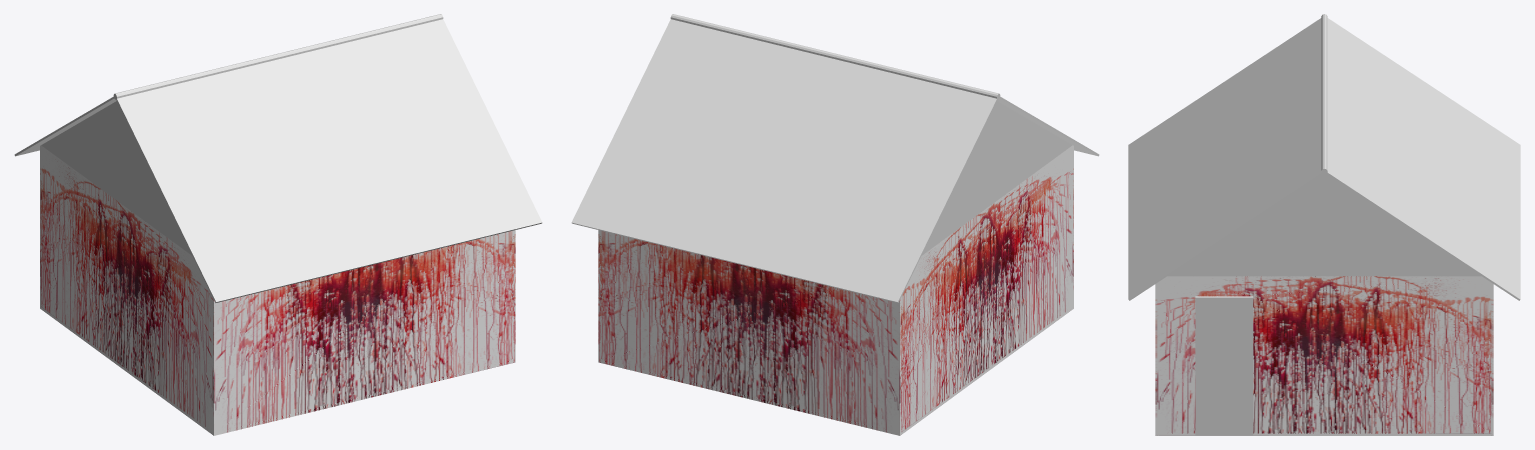
File: NadimRoom.fbx
3 views of the same model, side by side, from view 1: azimuth 30°, elevation 25°; view 2: azimuth 150°, elevation 25°; view 3: azimuth 270°, elevation 25° (orthographic). The views are drawn at different scales.
Parts seen in each view (by area): view 1: pCylinder1, Nadims_Box1, Nadims_Box; view 2: pCylinder1, Nadims_Box1, Nadims_Box; view 3: pCylinder1, Nadims_Box1, Nadims_Box, door.
Part boxes in pixels (x1=…): pCylinder1: x1=14, y1=14, x2=542, y2=302; Nadims_Box1: x1=40, y1=145, x2=515, y2=435; Nadims_Box: x1=41, y1=101, x2=191, y2=255; pCylinder1: x1=571, y1=14, x2=1099, y2=302; Nadims_Box1: x1=598, y1=145, x2=1073, y2=435; Nadims_Box: x1=922, y1=101, x2=1072, y2=255; pCylinder1: x1=1128, y1=14, x2=1520, y2=300; Nadims_Box1: x1=1155, y1=276, x2=1493, y2=435; Nadims_Box: x1=1167, y1=174, x2=1481, y2=276; door: x1=1195, y1=296, x2=1253, y2=435.
Size of the model in its own units: 11.94 by 9.84 by 12.78.
